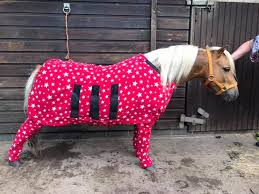Horse: (12, 37, 240, 174)
